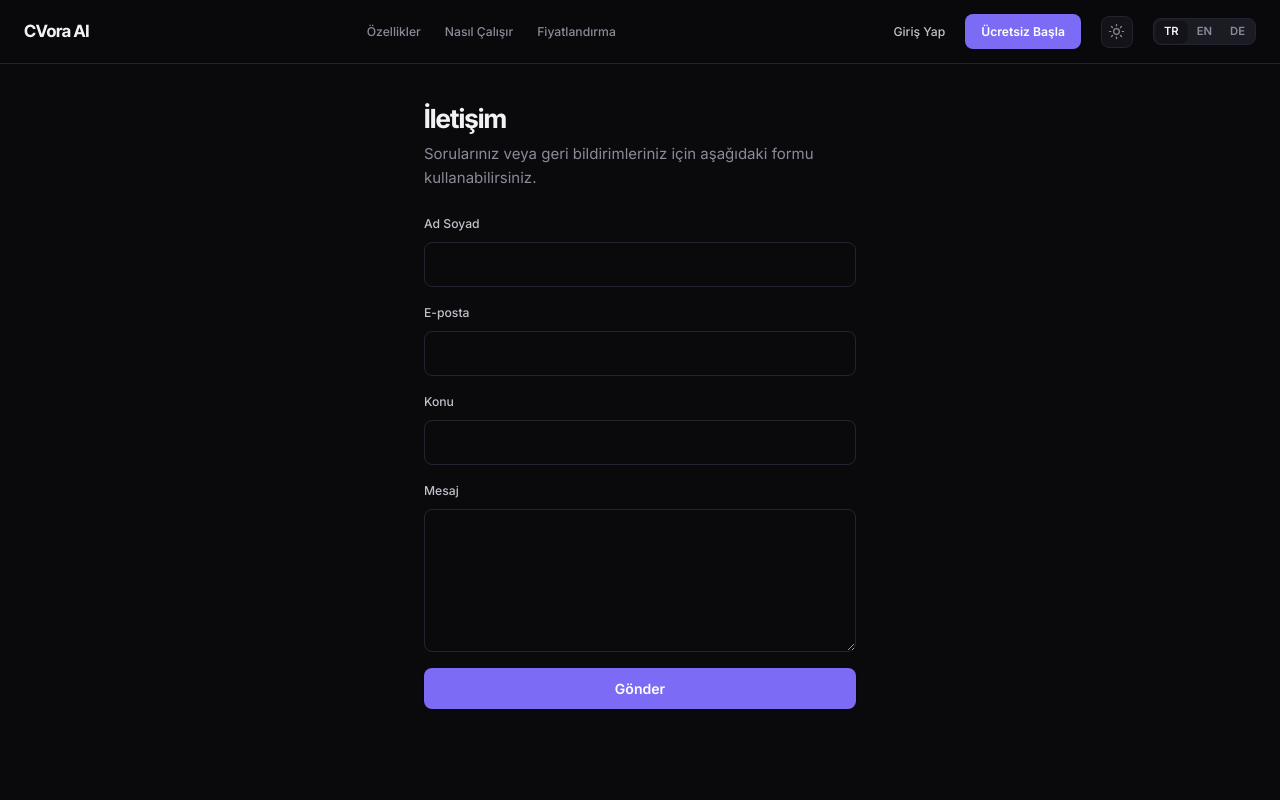
Test case: ContactPage › never shows a success message when the submission fails
This screenshot has width=1280, height=800.
Type "Ada Lovelace" into the field labelled "Ad Soyad" at [640, 264], box x1=424 y1=242 x2=856 y2=287
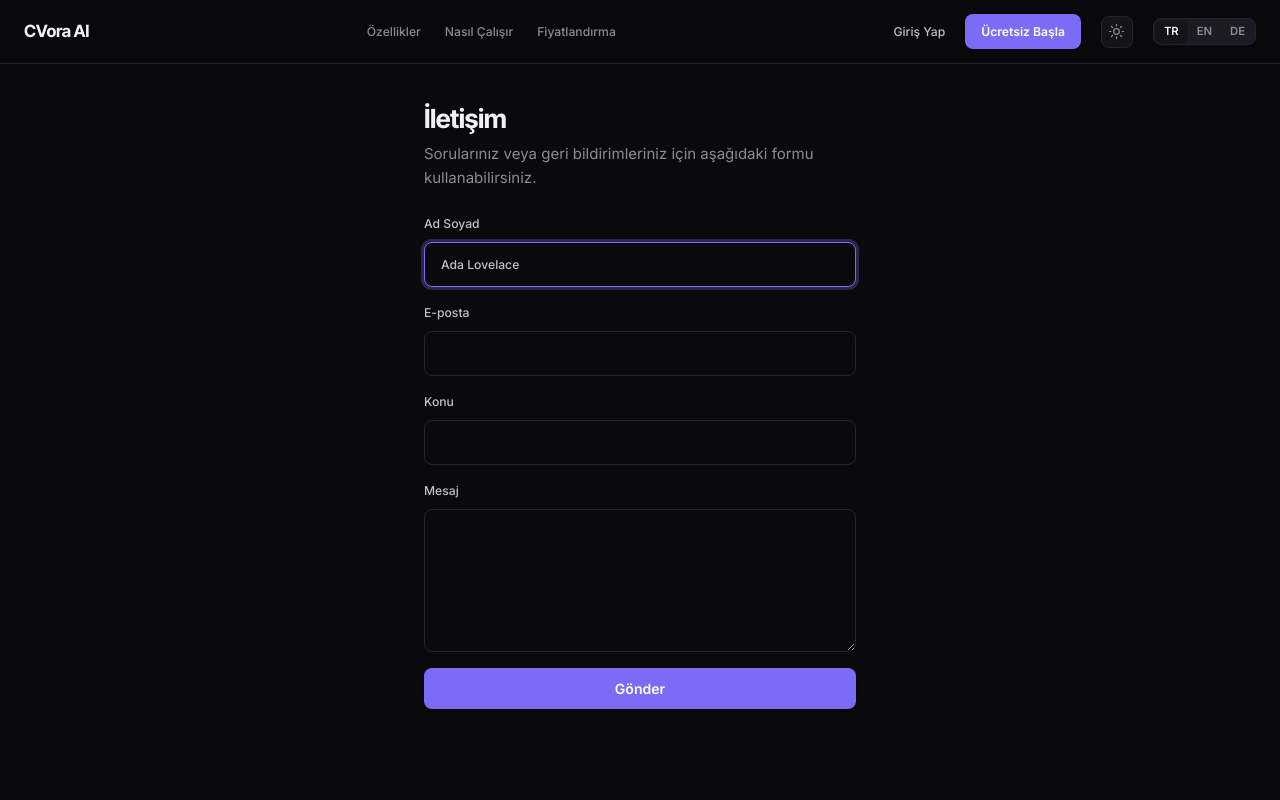
Type "ada@example.com" into the field labelled "E-posta" at [640, 353], box x1=424 y1=331 x2=856 y2=376
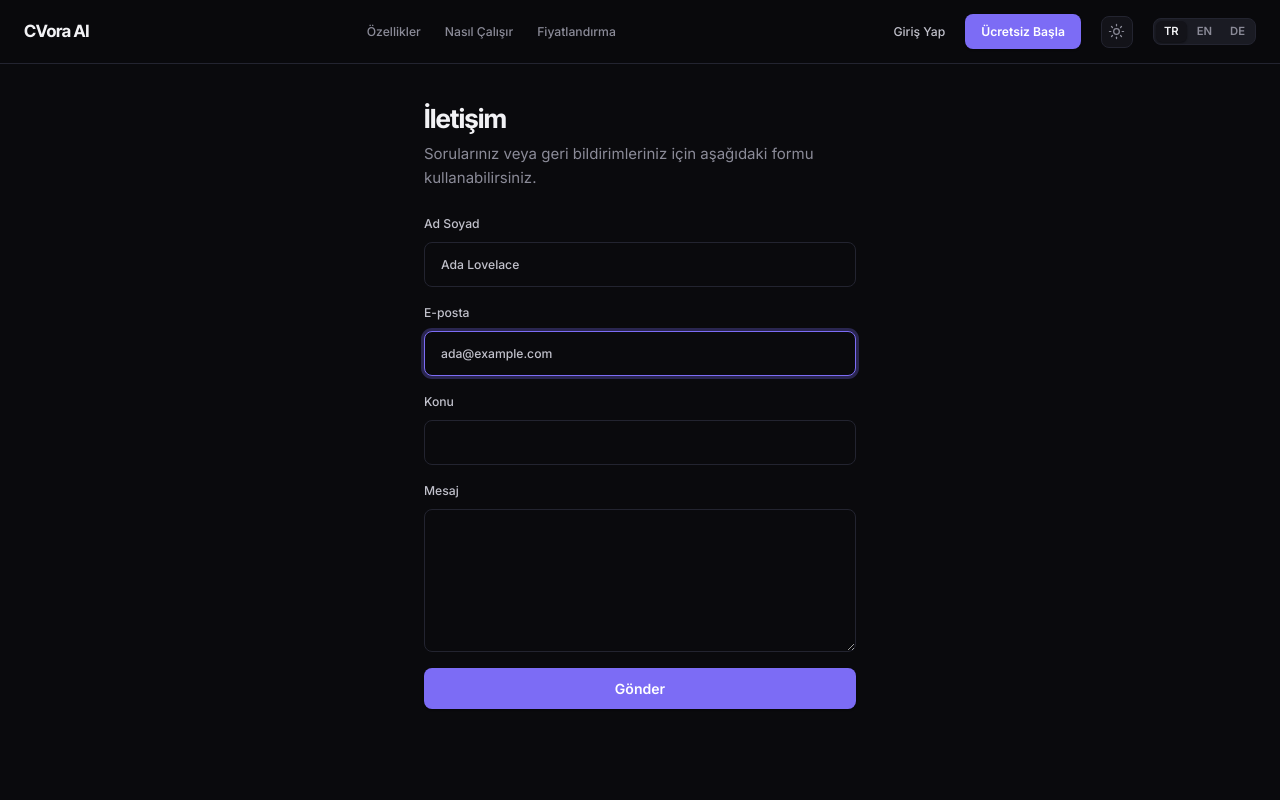
Type "Soru" into the field labelled "Konu" at [640, 442], box x1=424 y1=420 x2=856 y2=465
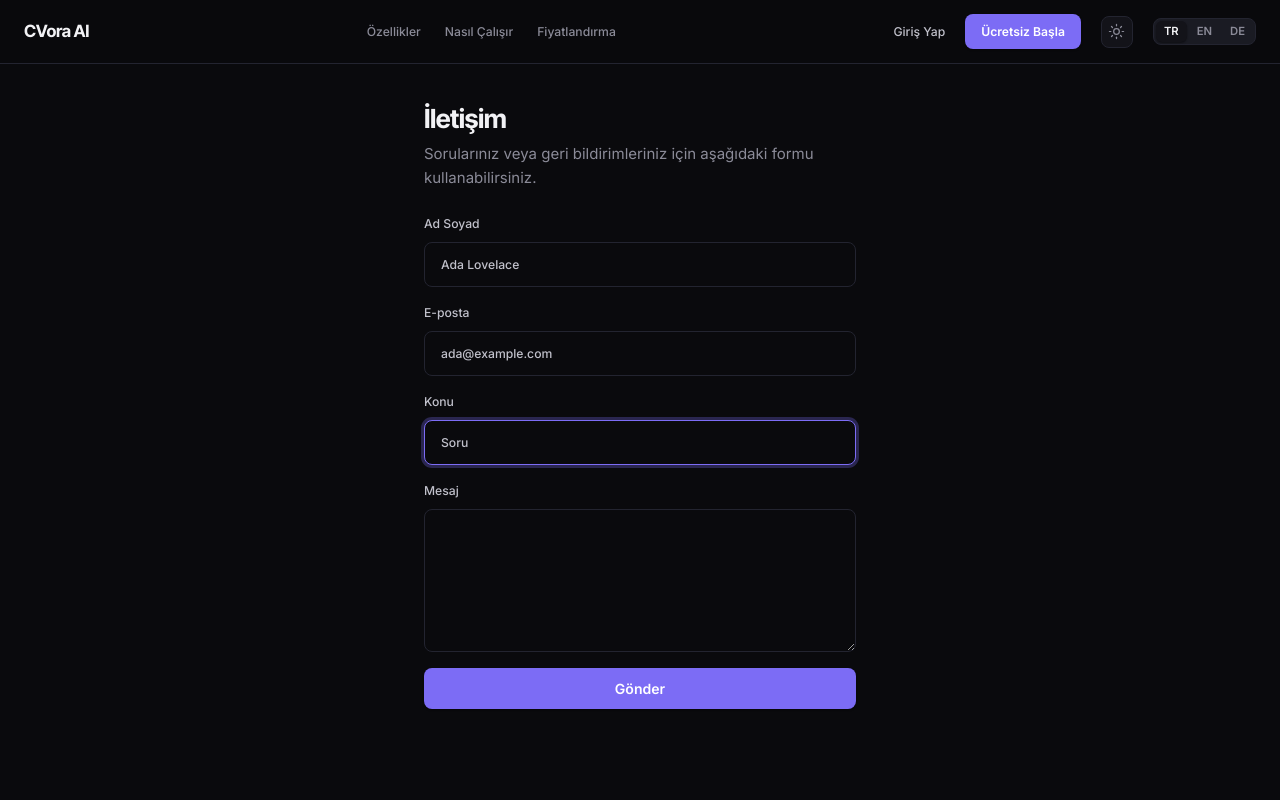
Type "Merhaba, bir sorum var." into the text box labelled "Mesaj" at [640, 580], box x1=424 y1=509 x2=856 y2=652
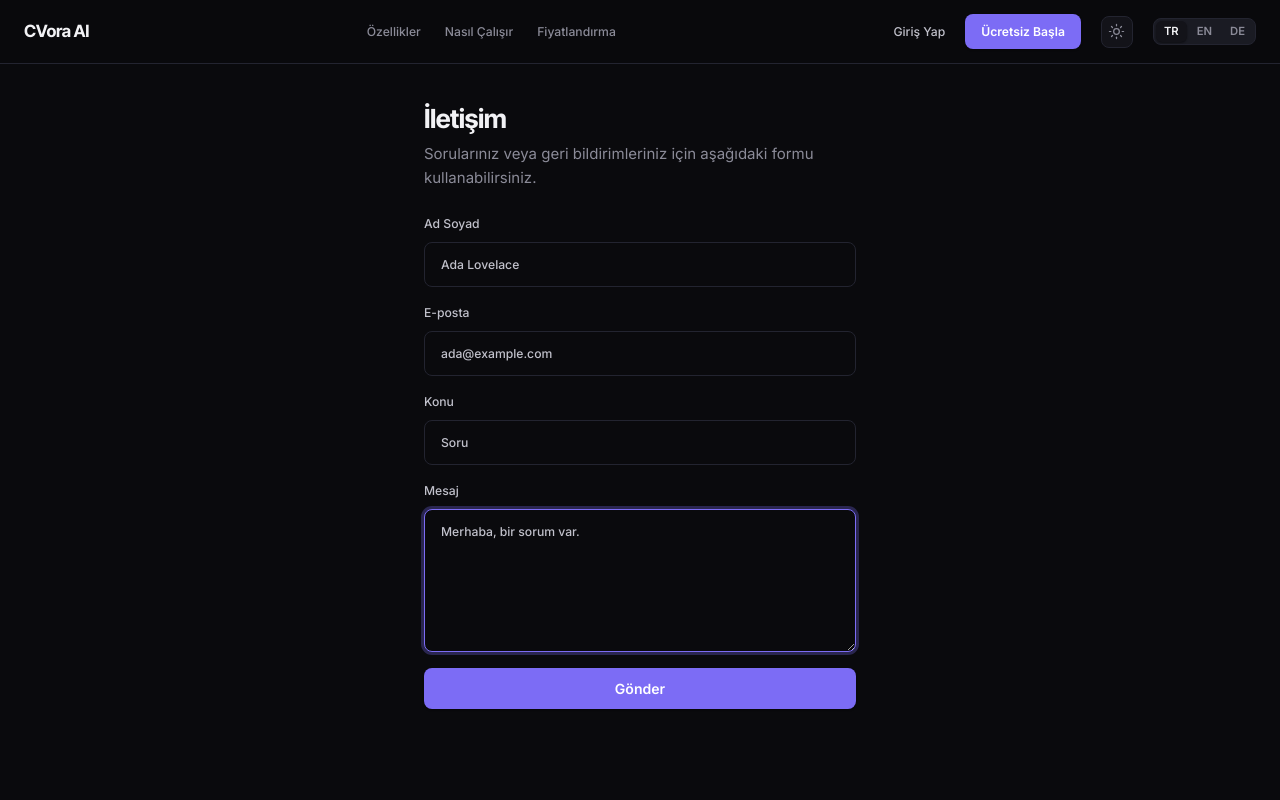
Click the button "Gönder" at [640, 688], box x1=424 y1=668 x2=856 y2=709
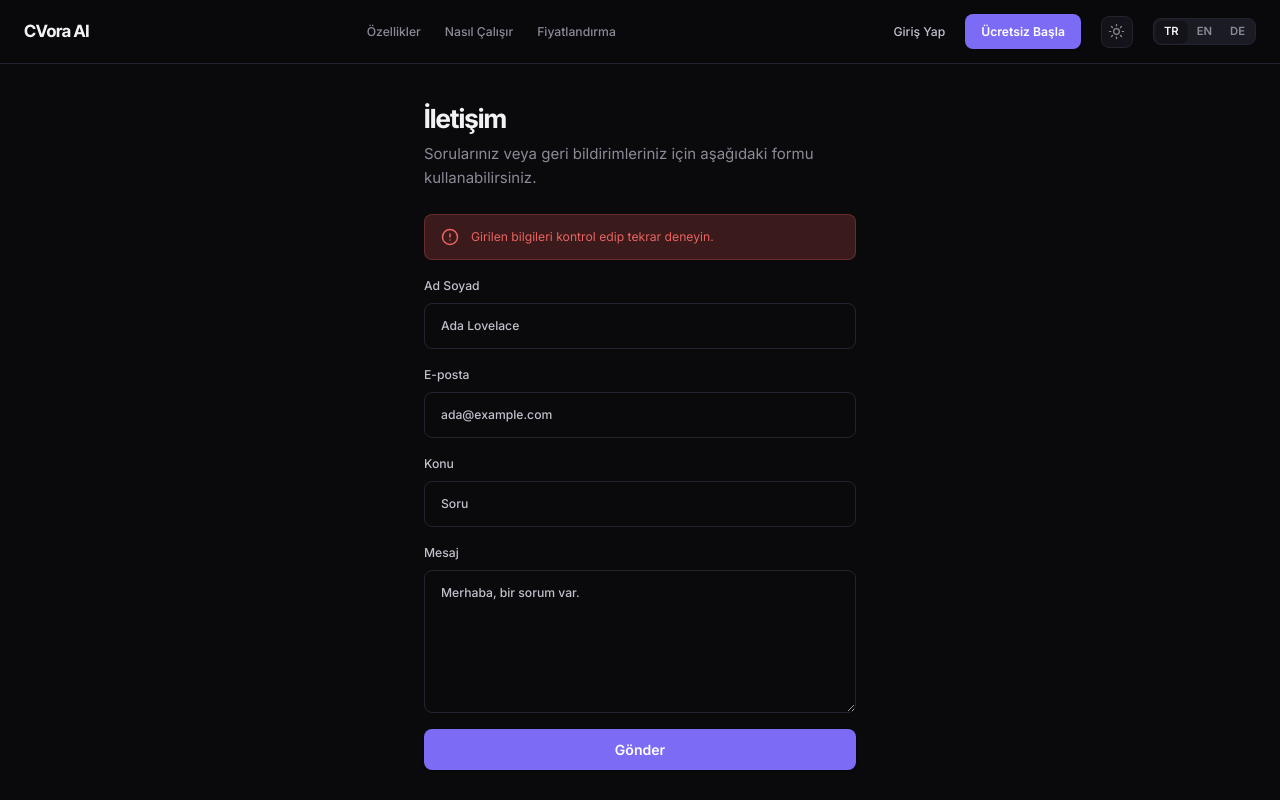
Expected: the text "Girilen bilgileri kontrol edip tekrar deneyin." is shown, x1=471 y1=227 x2=714 y2=247
